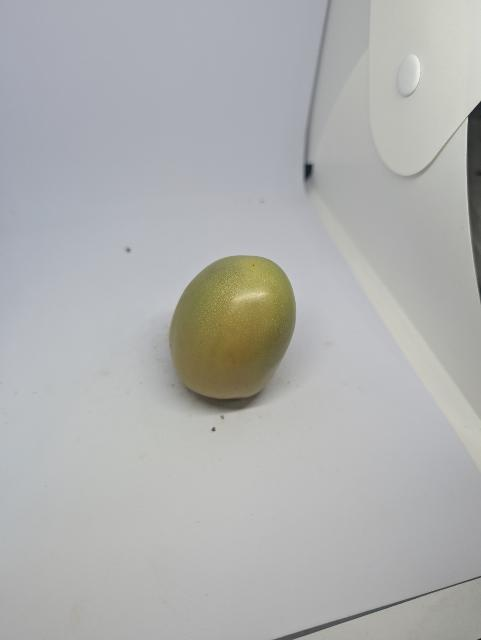breaker: (170, 256, 296, 399)
